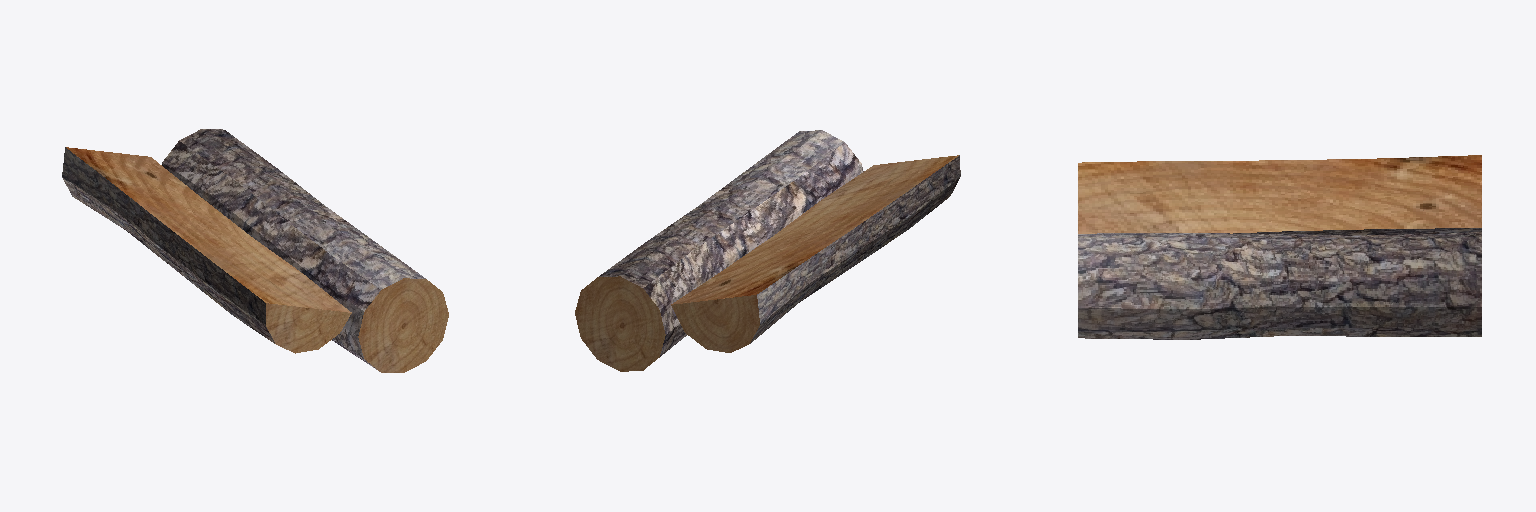
3 renders of one model, left to right at view 1: azimuth 30°, elevation 25°; view 2: azimuth 150°, elevation 25°; view 3: azimuth 270°, elevation 25°, orthographic.
Visible parts, largest first — view 1: base, half; view 2: base, half; view 3: base, half.
Boxes of the visible parts, x1,y1,x2,y2 form: base: [162, 129, 448, 372]; half: [62, 147, 351, 353]; base: [575, 130, 863, 371]; half: [671, 155, 960, 352]; base: [1078, 232, 1481, 339]; half: [1078, 155, 1481, 234].
Bounding box in the file's own units: 8.62 × 5.05 × 16.22.
Materials: 1 (1 with a texture image).